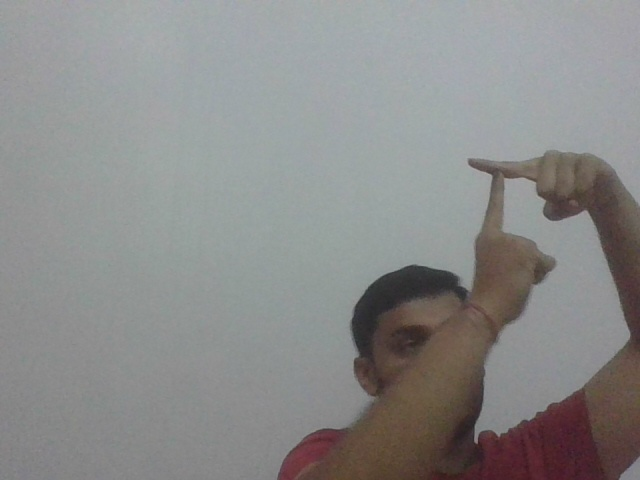T: (464, 153, 529, 230)
